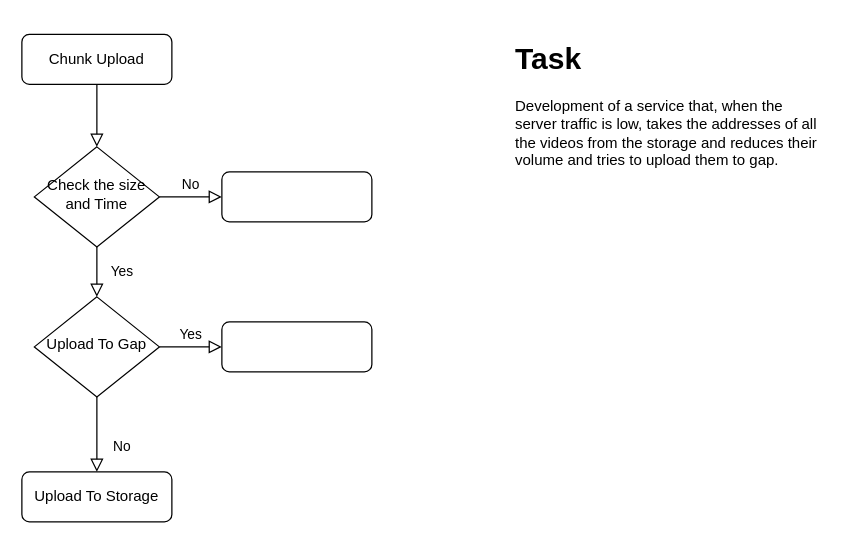
Some shapes in this 844 by 544 pixel diagram are drawn without their labels. Each missing label, with the centre of its shape:
"Response 400" belongs at pixel 296 196.
"Save Url" belongs at pixel 296 346.
